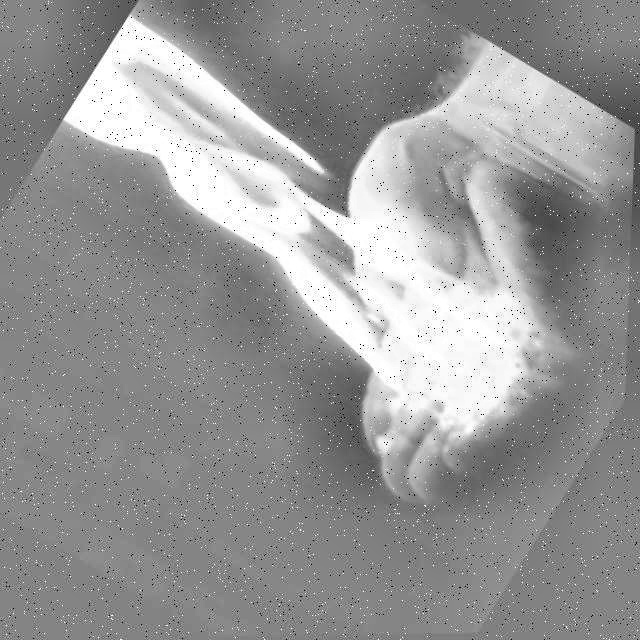Fire: (20, 3, 578, 443)
